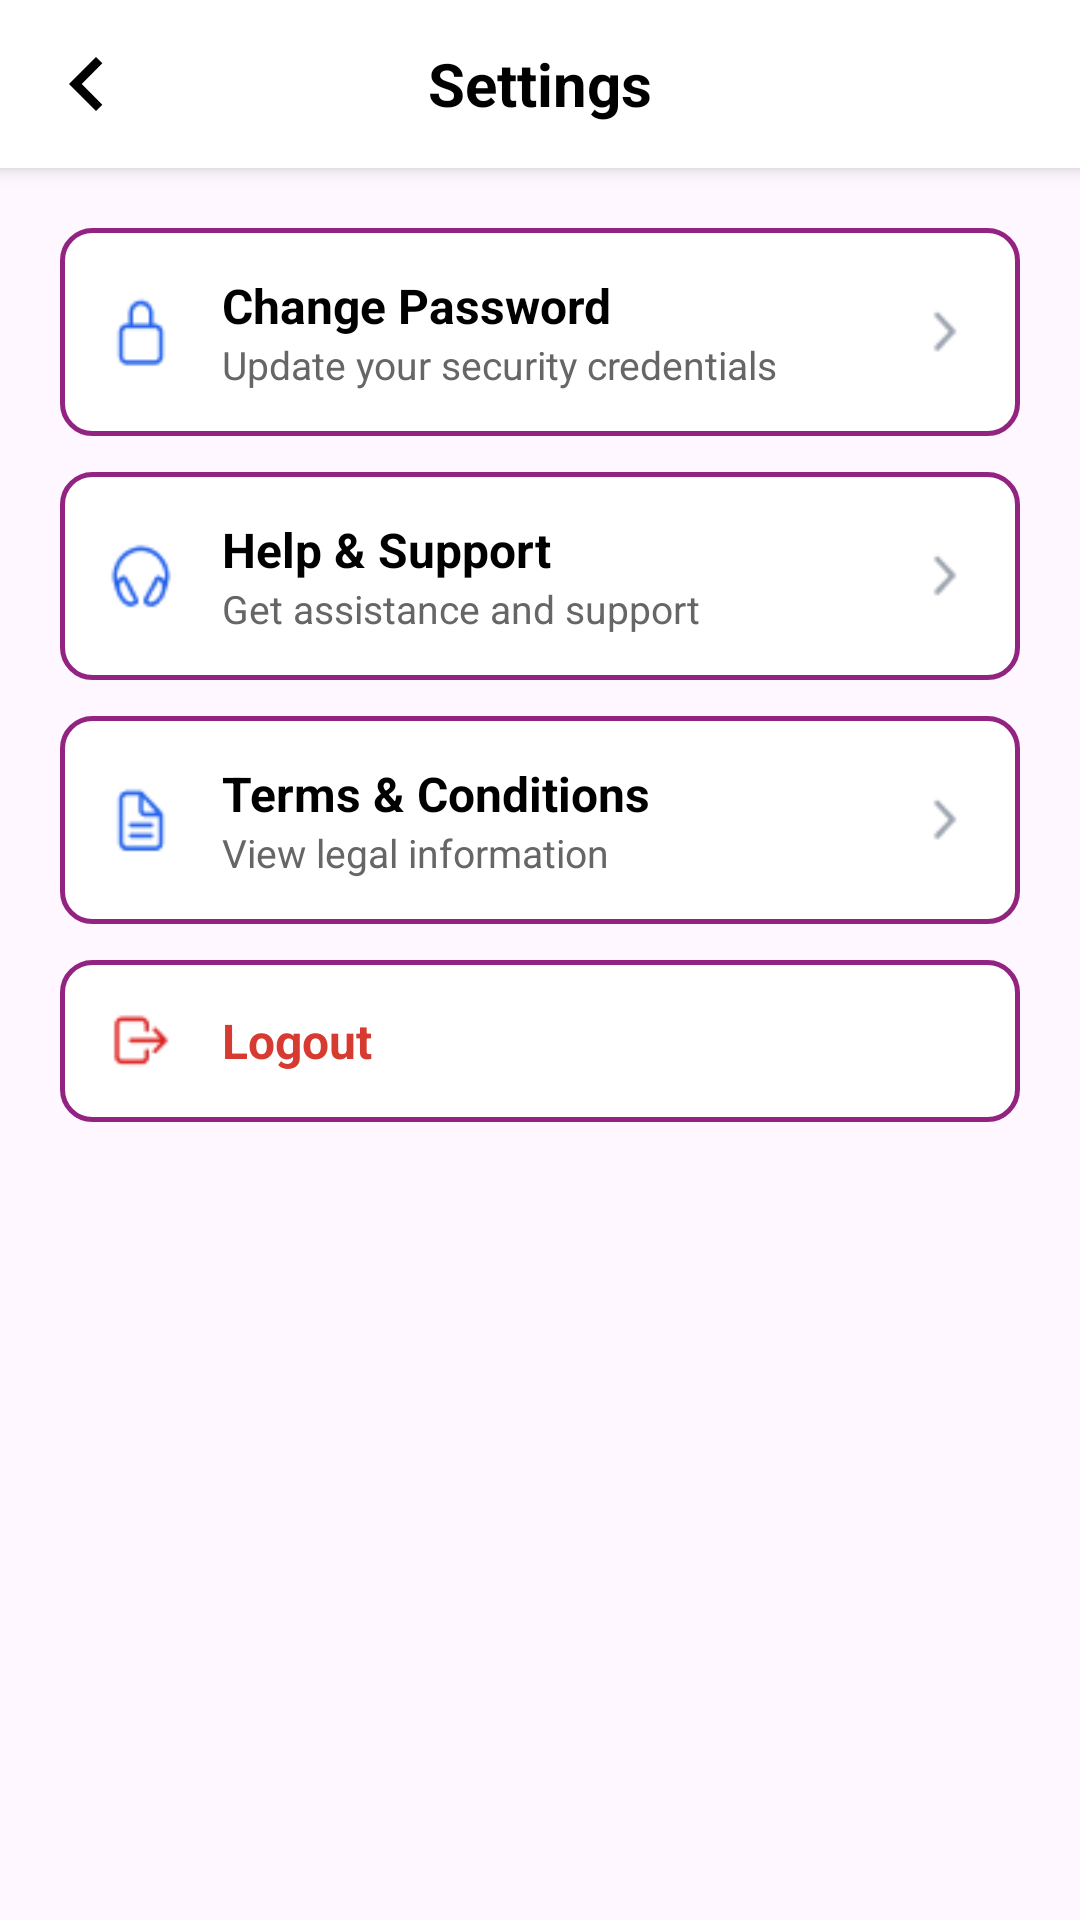

Named icons in this screenshot (1080×1920) and their centers, (x,y):
Back: (86,84)
Next: (945,331), (945,575), (945,819)
